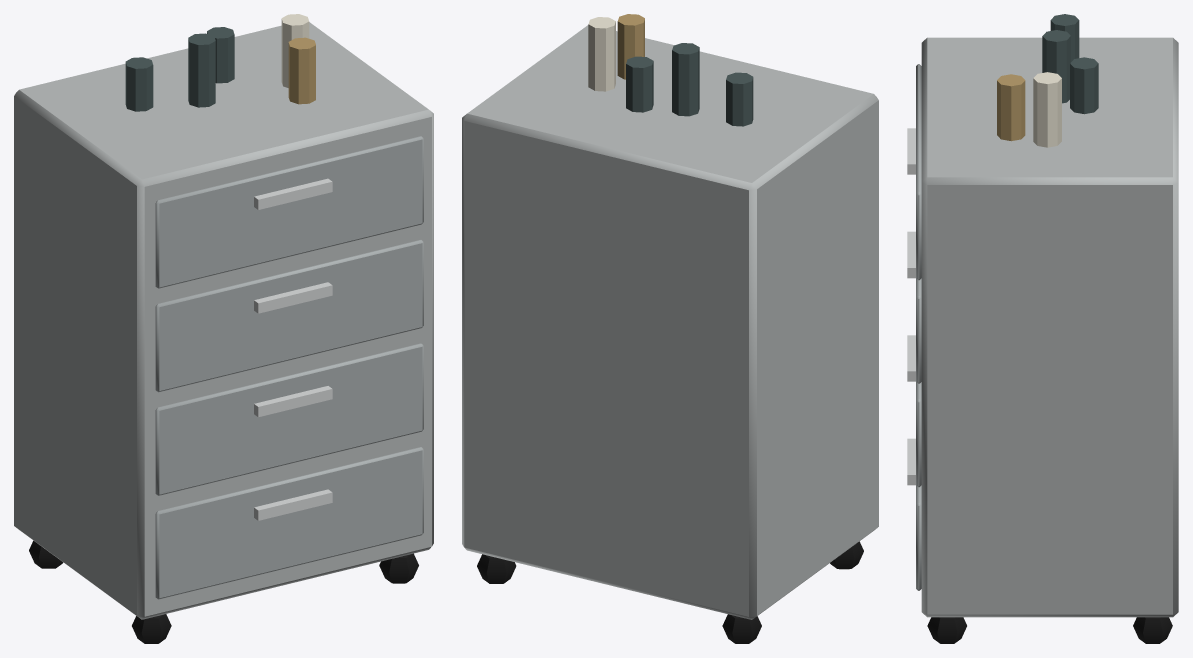
The model's file is med_cart.glb.
3 renders of one model, left to right at view 1: azimuth 30°, elevation 25°; view 2: azimuth 150°, elevation 25°; view 3: azimuth 270°, elevation 25°, orthographic.
Parts seen in each view (by area): view 1: MedCart; view 2: MedCart; view 3: MedCart.
Boxes of the visible parts, x1,y1,x2,y2 form: MedCart: (14,14,433,643); MedCart: (462,14,878,643); MedCart: (907,14,1178,643).
Size of the model in its own units: 0.6 by 1.04 by 0.475.
